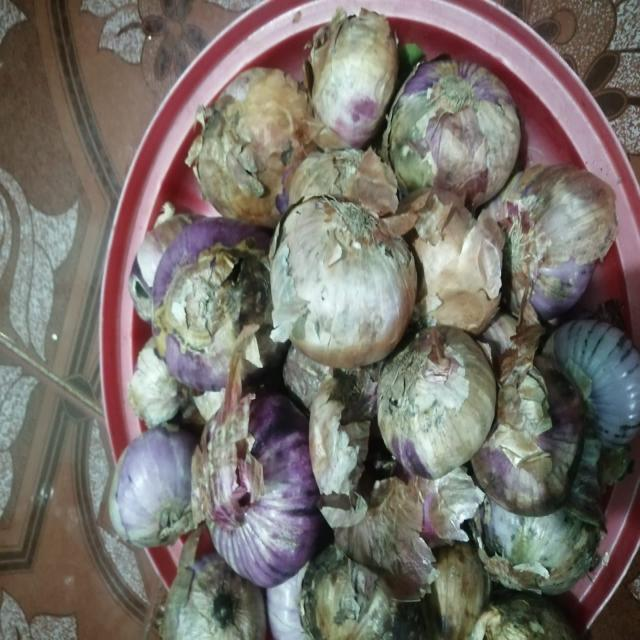rotten: (204, 248, 270, 344), (252, 397, 321, 485), (542, 426, 600, 518)
